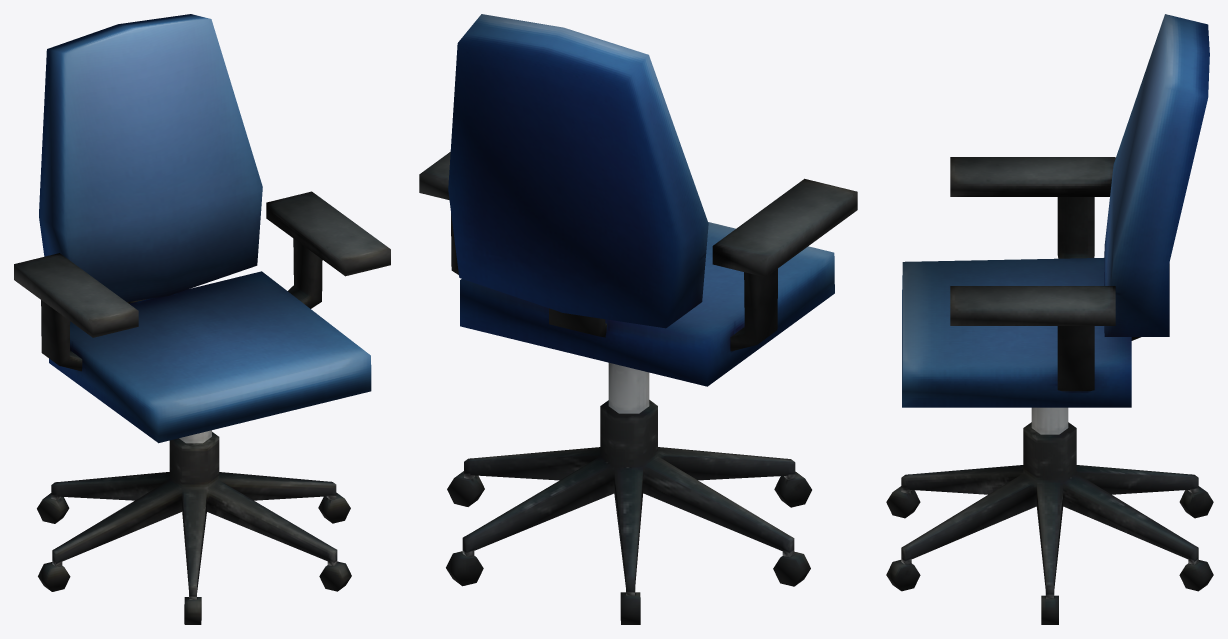
The model's file is office_chair.fbx.
3 views of the same model, side by side, from view 1: azimuth 30°, elevation 25°; view 2: azimuth 150°, elevation 25°; view 3: azimuth 270°, elevation 25° (orthographic). The views are drawn at different scales.
Parts seen in each view (by area): view 1: Office Chair.002; view 2: Office Chair.002; view 3: Office Chair.002.
Part boxes in pixels (bbox=[...]): Office Chair.002: bbox=[14, 14, 390, 624]; Office Chair.002: bbox=[419, 14, 857, 624]; Office Chair.002: bbox=[886, 14, 1213, 624].
Bounding box in the file's own units: 2 × 3.04 × 1.78.
